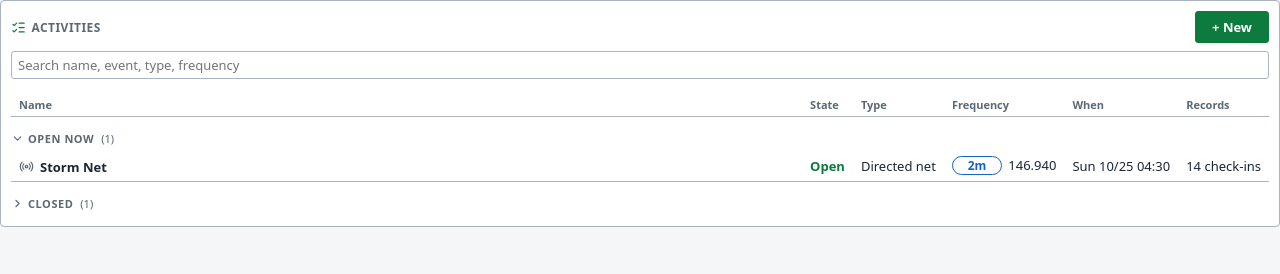
it: ActivitiesPanel (UX-OPS-015) › opens and folds a section on its heading
Click the button "Closed (1)": (52, 203) top-left (11, 194), bottom-right (93, 212)
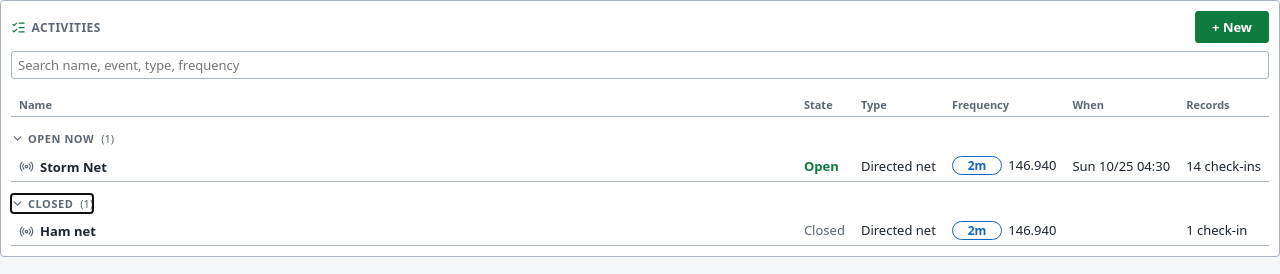
Expected: the button "Ham net" is shown, top-left (19, 222), bottom-right (96, 240)
Click the button "Open now (1)": (62, 138) top-left (11, 129), bottom-right (114, 148)
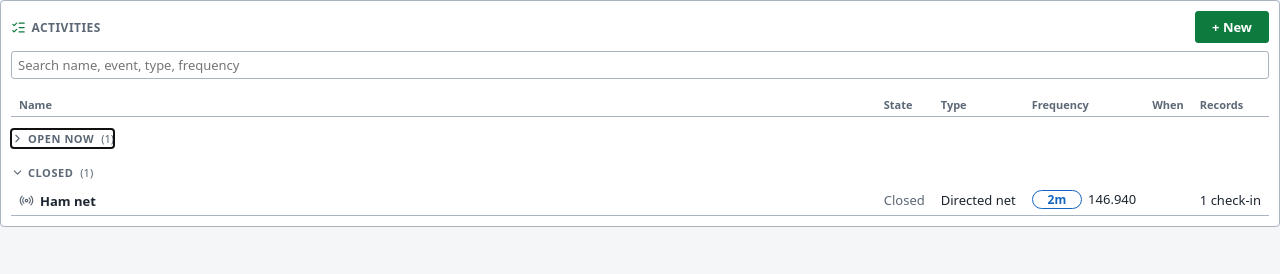
Expected: the button "Storm Net" is gone
